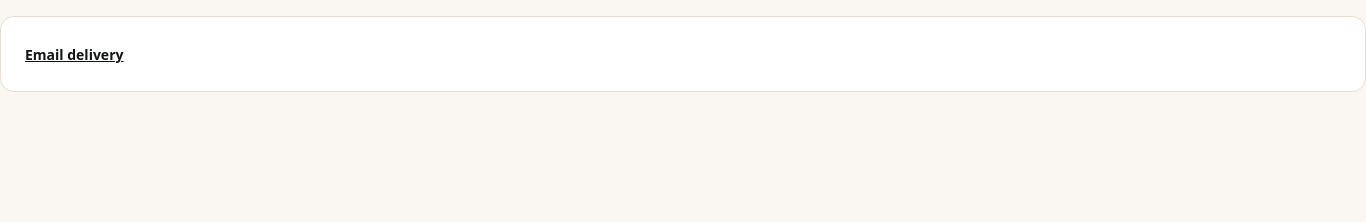
Test: theme and CMS libraries › shows failed delivery status and retries without reporting it as delivered
The width and height of the screenshot is (1366, 222).
Later steps or results of the test are not shown.
Click the button "Email delivery": (74, 55) top-left (25, 45), bottom-right (124, 65)
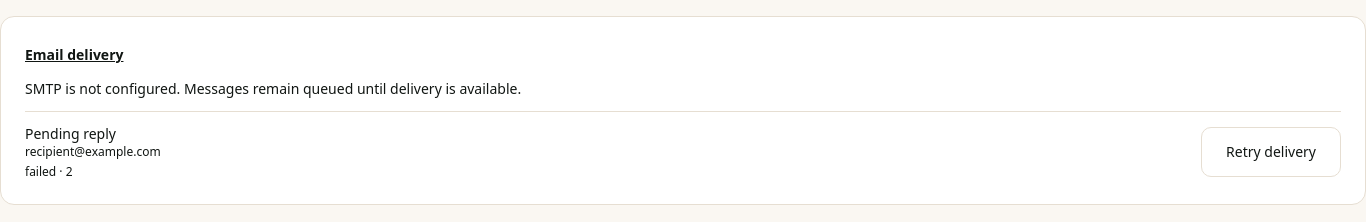
Now the text "Pending reply" is shown, box top-left (25, 124), bottom-right (116, 143)
Now the text "SMTP is not configured. Messages remain queued until delivery is available." is shown, box top-left (25, 79), bottom-right (521, 98)
Now the text "failed · 2" is shown, box top-left (25, 163), bottom-right (72, 180)
